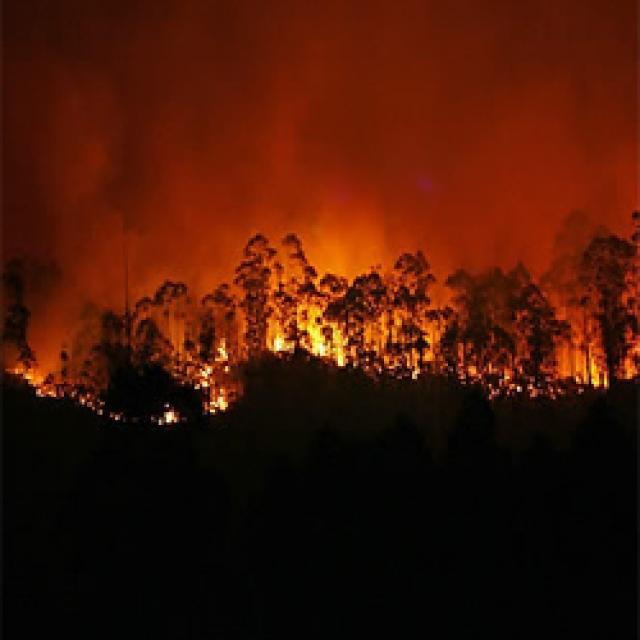Fire: (264, 325, 350, 373), (190, 336, 232, 424), (490, 370, 564, 400), (9, 365, 54, 400), (356, 323, 378, 377), (574, 354, 604, 390), (69, 392, 100, 418), (396, 359, 432, 377), (620, 353, 636, 383), (158, 404, 176, 426)
Smoke: (0, 0, 640, 294), (0, 289, 123, 361)
